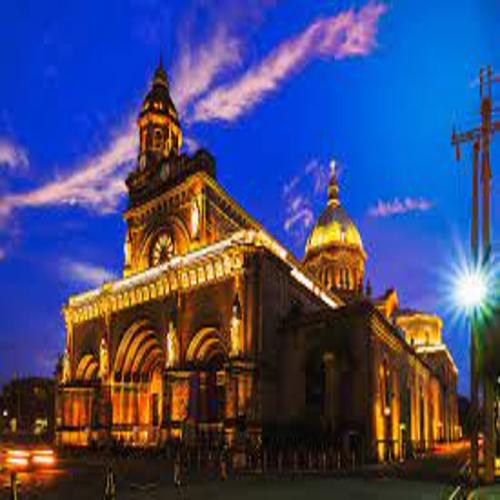Manila Cathedral Church: (41, 42, 466, 464)
